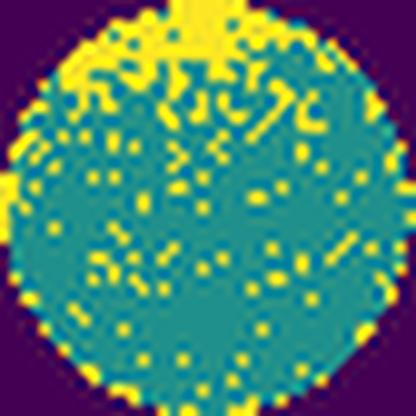Edge-Loc: (39, 0, 363, 94)
